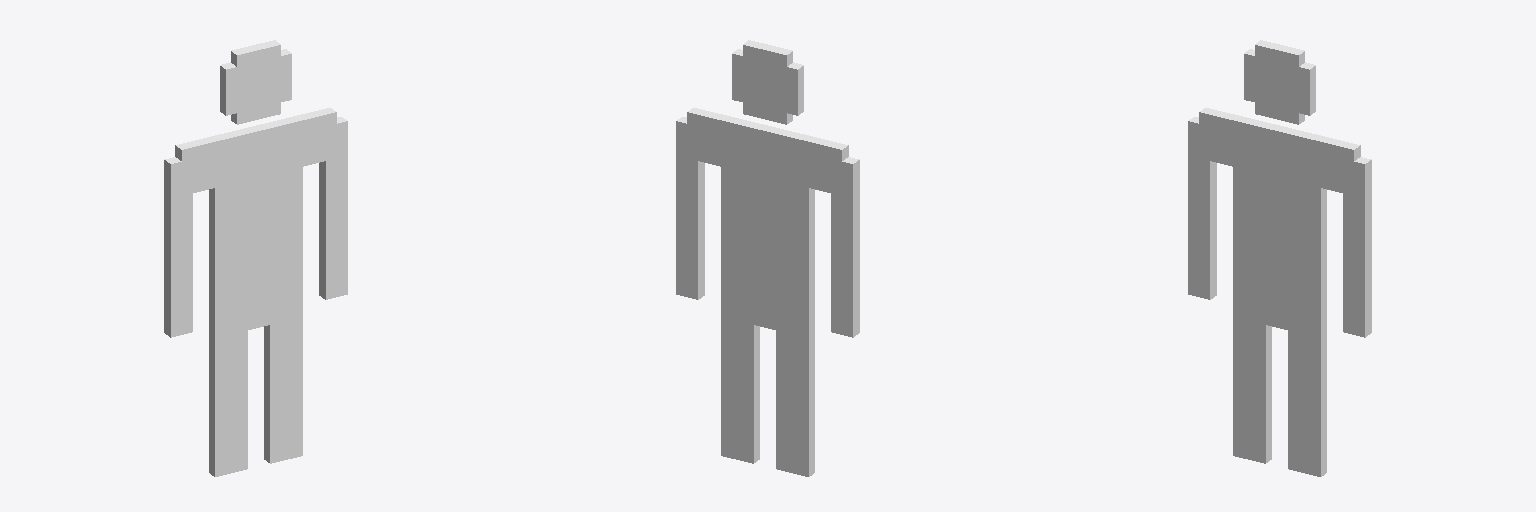
File: keisyou.obj
The picture shows the model from 3 angles: view 1: azimuth 30°, elevation 25°; view 2: azimuth 150°, elevation 25°; view 3: azimuth 330°, elevation 25°; orthographic projection.
Visible parts, largest first — view 1: object 1; view 2: object 1; view 3: object 1.
Boxes of the visible parts, x1,y1,x2,y2 form: object 1: [164, 40, 347, 476]; object 1: [676, 40, 859, 476]; object 1: [1188, 40, 1371, 476].
Bounding box in the file's own units: 1.6 × 3.6 × 0.1.